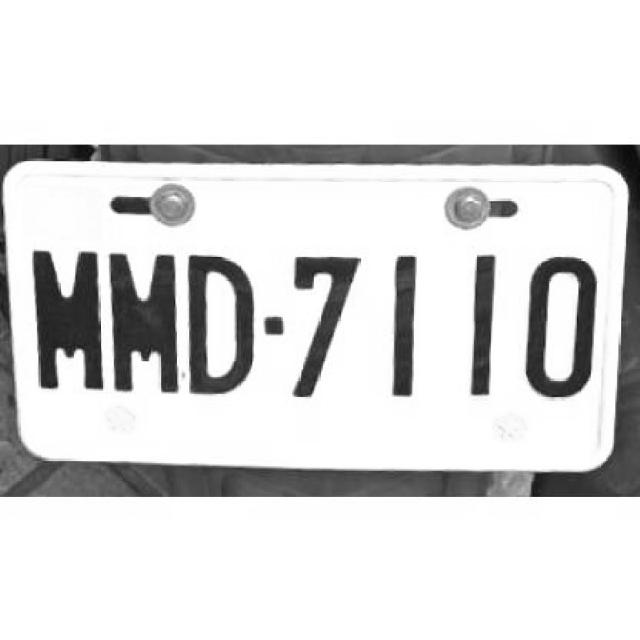-: (262, 304, 284, 336)
0: (521, 245, 597, 403)
1: (464, 245, 498, 400), (388, 240, 420, 400)
7: (288, 243, 363, 402)
D: (183, 238, 254, 398)
M: (103, 243, 182, 399), (24, 240, 104, 392)
